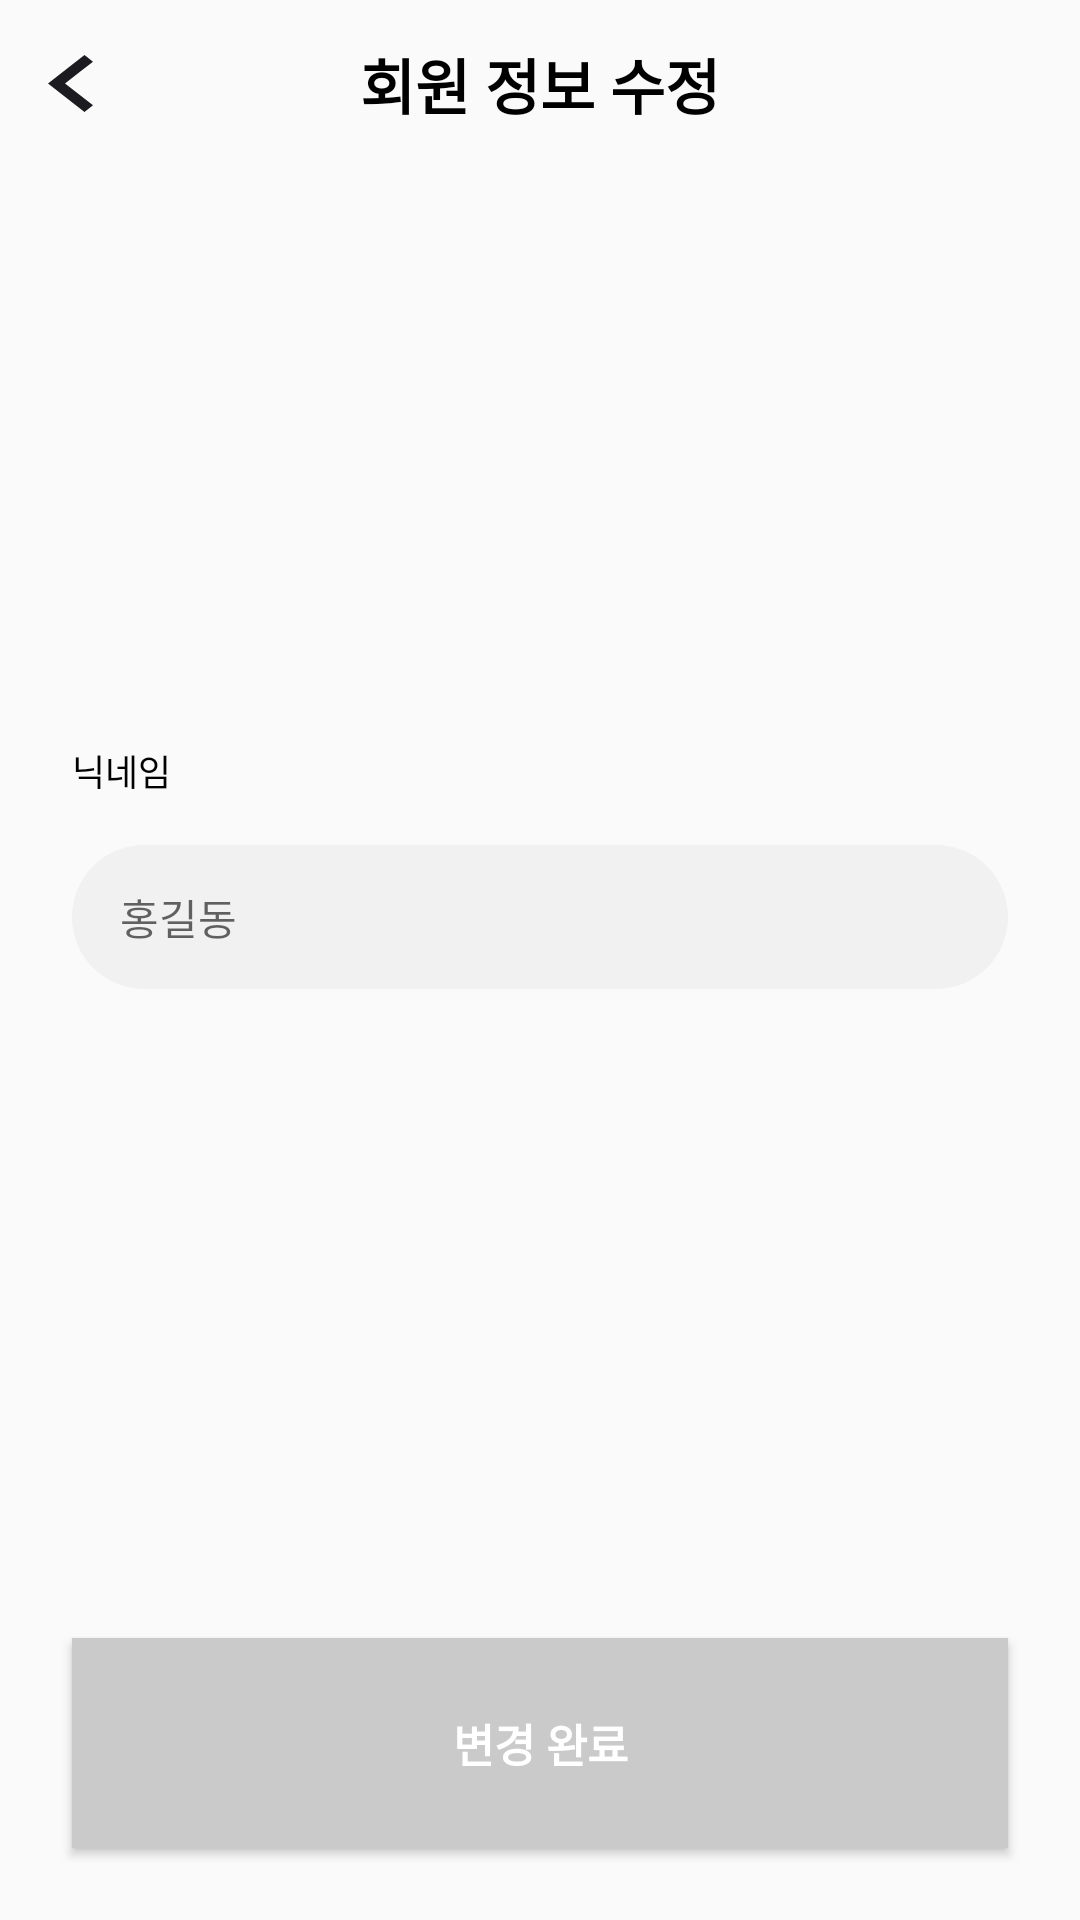

Icons on this 1080px x 1920px Android screen, each with its box as (x1, y1, x2, y2):
뒤로가기: (48, 55, 93, 112)
